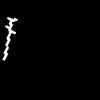double_crochet: (3, 18, 16, 59)
